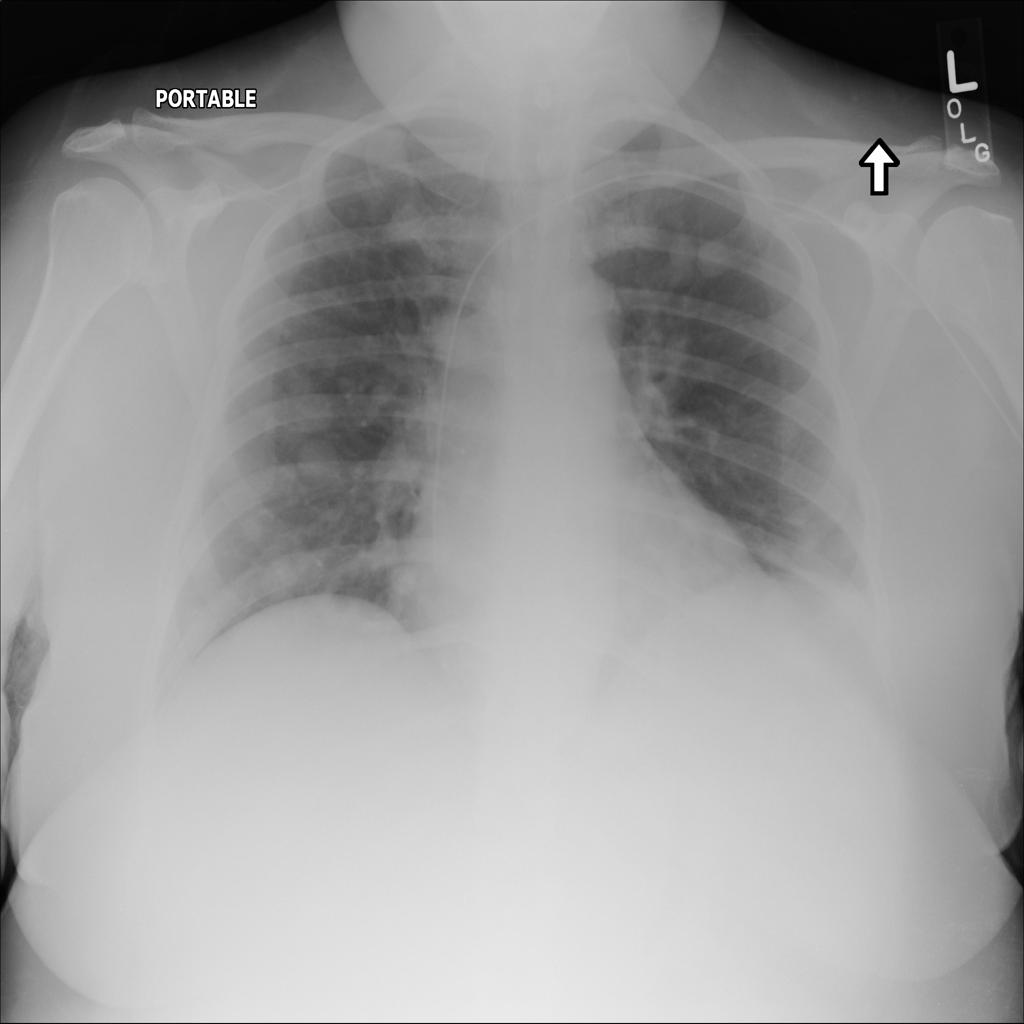nodule: (166, 592, 233, 664), (246, 546, 319, 612), (284, 428, 353, 496), (680, 222, 748, 290), (278, 365, 333, 415), (376, 556, 430, 605), (231, 500, 284, 548)
